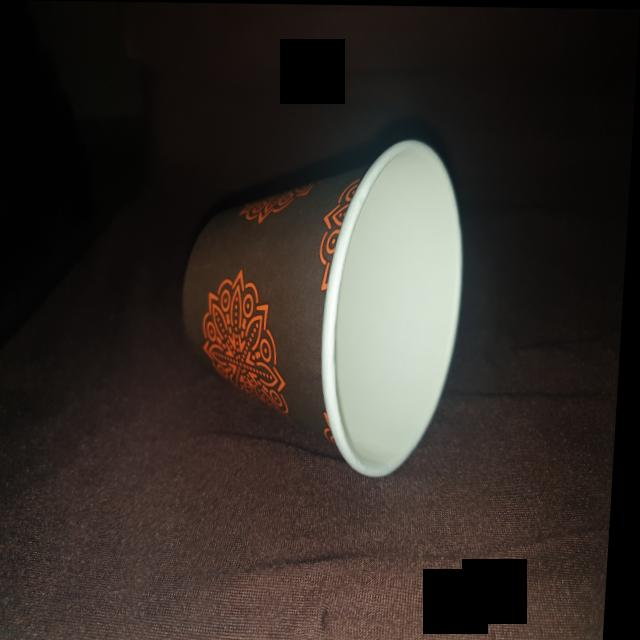cups: (165, 123, 481, 486)
